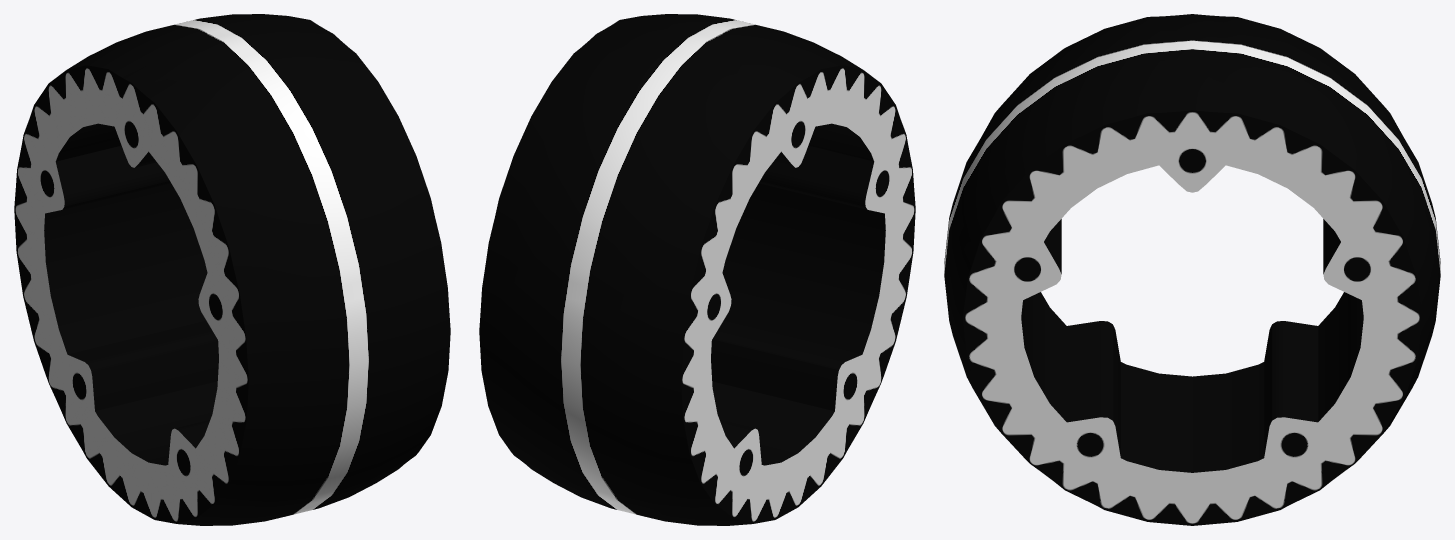
The model's file is rustcycle.fbx.
3 renders of one model, left to right at view 1: azimuth 30°, elevation 25°; view 2: azimuth 150°, elevation 25°; view 3: azimuth 270°, elevation 25°, orthographic. The views are drawn at different scales.
Visible parts, largest first — view 1: Wheel; view 2: Wheel; view 3: Wheel.
Part boxes in pixels (x1,y1,x2,y2): Wheel: (14,14,450,525); Wheel: (479,14,915,525); Wheel: (944,14,1440,525).
Bounding box in the file's own units: 0.2496 × 0.5428 × 0.5428.
1 material, 1 textured.
